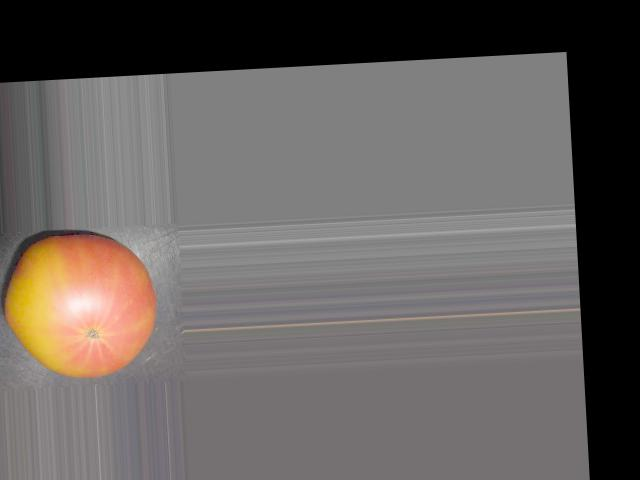tomato: (2, 229, 159, 381)
